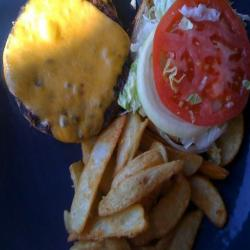burger: (9, 3, 241, 152)
fries: (74, 127, 214, 250)
